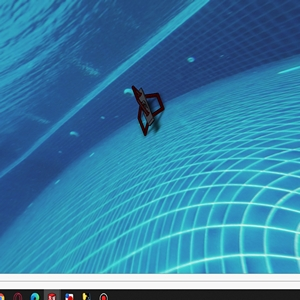submarine: (131, 84, 173, 134)
